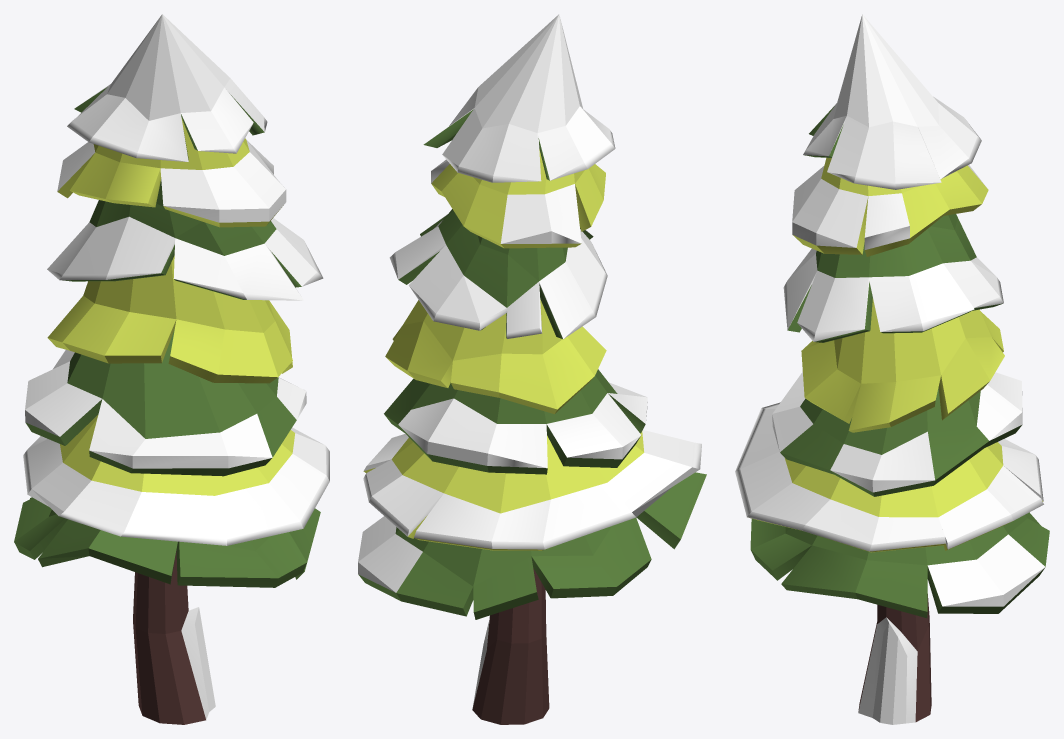
File: Conifer Tree_1 Snow.fbx
3 renders of one model, left to right at view 1: azimuth 30°, elevation 25°; view 2: azimuth 150°, elevation 25°; view 3: azimuth 270°, elevation 25°, orthographic. The views are drawn at different scales.
Visible parts, largest first — view 1: Conifer Tree_1 Snow; view 2: Conifer Tree_1 Snow; view 3: Conifer Tree_1 Snow.
Part boxes in pixels (bbox=[...]): Conifer Tree_1 Snow: bbox=[14, 14, 329, 724]; Conifer Tree_1 Snow: bbox=[358, 14, 706, 724]; Conifer Tree_1 Snow: bbox=[735, 14, 1049, 724].
Bounding box in the file's own units: 2.58 × 5.93 × 2.49.
